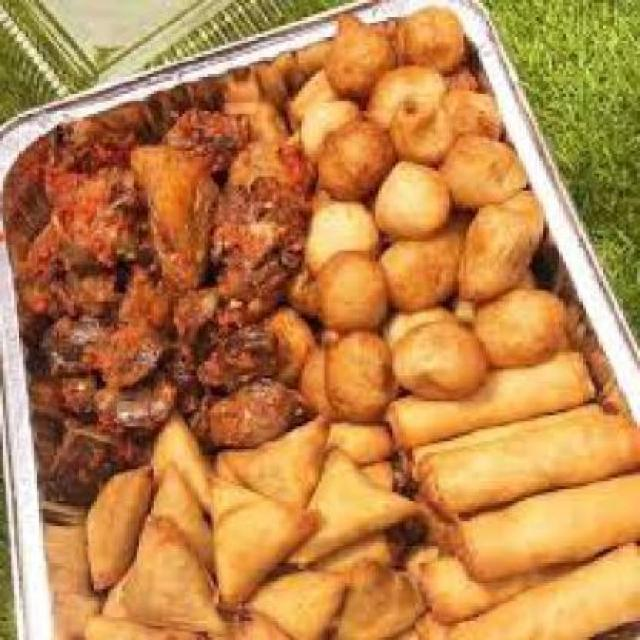samosa: (85, 400, 390, 638)
